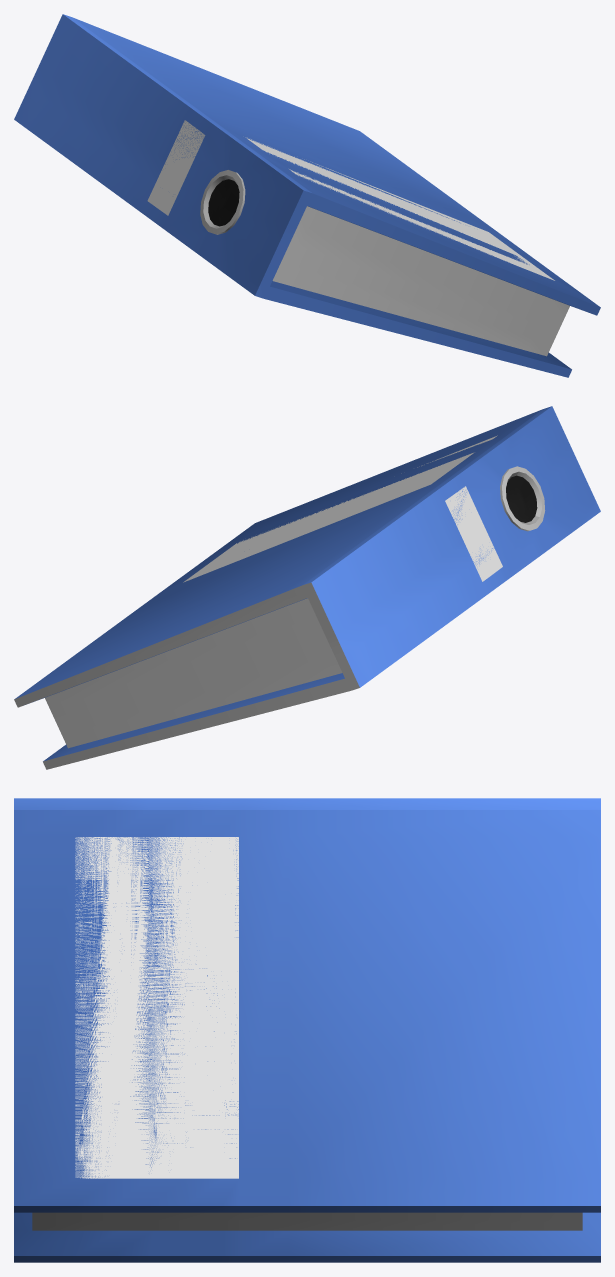
Rendered from Fixed_Item_Binder_wLabel_Ver1.fbx.
The picture shows the model from 3 angles, top to bottom: view 1: azimuth 30°, elevation 25°; view 2: azimuth 150°, elevation 25°; view 3: azimuth 270°, elevation 25°; orthographic projection. The views are drawn at different scales.
Visible parts, largest first — view 1: Binder_low, Binder_labels; view 2: Binder_low, Binder_labels; view 3: Binder_low, Binder_labels.
Boxes of the visible parts, x1,y1,x2,y2 form: Binder_low: (14,14,600,377); Binder_labels: (147,120,554,280); Binder_low: (14,406,600,769); Binder_labels: (183,435,502,582); Binder_low: (14,798,600,1262); Binder_labels: (75,837,238,1178).
Size of the model in its own units: 1126 by 784 by 1358.
Materials: 2 (1 with a texture image).
